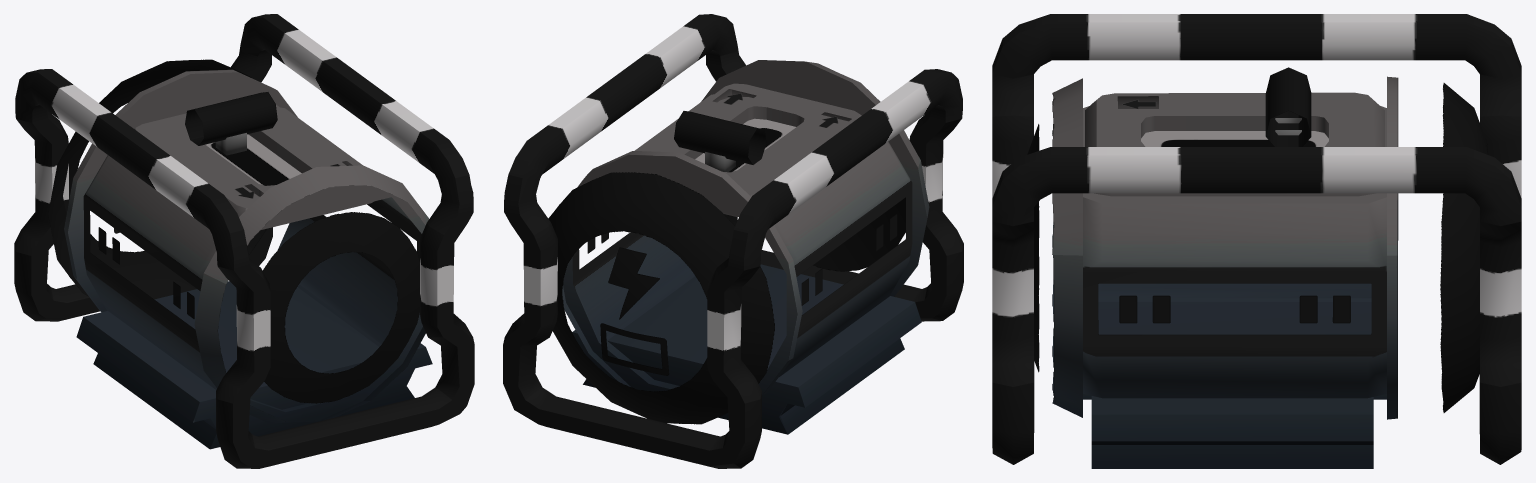
File: obj_interactive_electricengine_03_off.fbx
3 renders of one model, left to right at view 1: azimuth 30°, elevation 25°; view 2: azimuth 150°, elevation 25°; view 3: azimuth 270°, elevation 25°, orthographic. The views are drawn at different scales.
Parts seen in each view (by area): view 1: obj_interactive_electricengine_03_off; view 2: obj_interactive_electricengine_03_off; view 3: obj_interactive_electricengine_03_off.
Part boxes in pixels (x1,y1,x2,y2): obj_interactive_electricengine_03_off: (14,14,474,468); obj_interactive_electricengine_03_off: (503,14,963,468); obj_interactive_electricengine_03_off: (992,14,1521,468).
Size of the model in its own units: 2.04 by 2.04 by 3.03.
